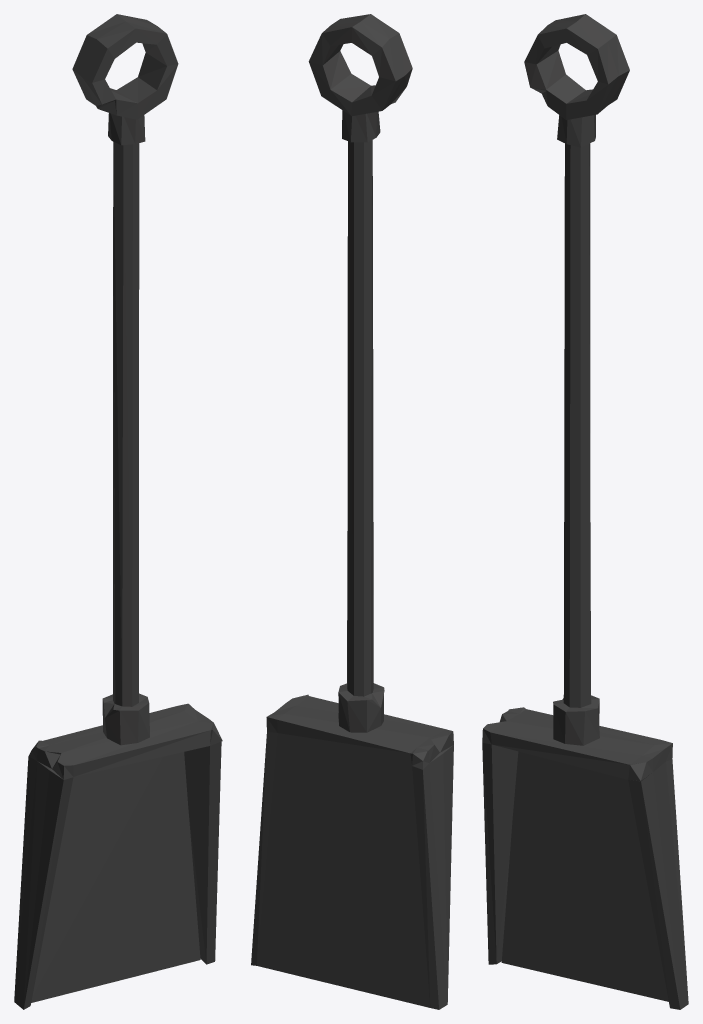
The model's file is SFHW_Chemney_Tool_001.fbx.
3 views of the same model, side by side, from view 1: azimuth 30°, elevation 25°; view 2: azimuth 150°, elevation 25°; view 3: azimuth 330°, elevation 25° (orthographic).
Visible parts, largest first — view 1: SFHW_Chemney_Tool_001; view 2: SFHW_Chemney_Tool_001; view 3: SFHW_Chemney_Tool_001.
Boxes of the visible parts, x1,y1,x2,y2 form: SFHW_Chemney_Tool_001: (14,14,222,1009); SFHW_Chemney_Tool_001: (251,14,453,1009); SFHW_Chemney_Tool_001: (482,14,688,1009).
Size of the model in its own units: 15.33 by 74.14 by 4.75.
